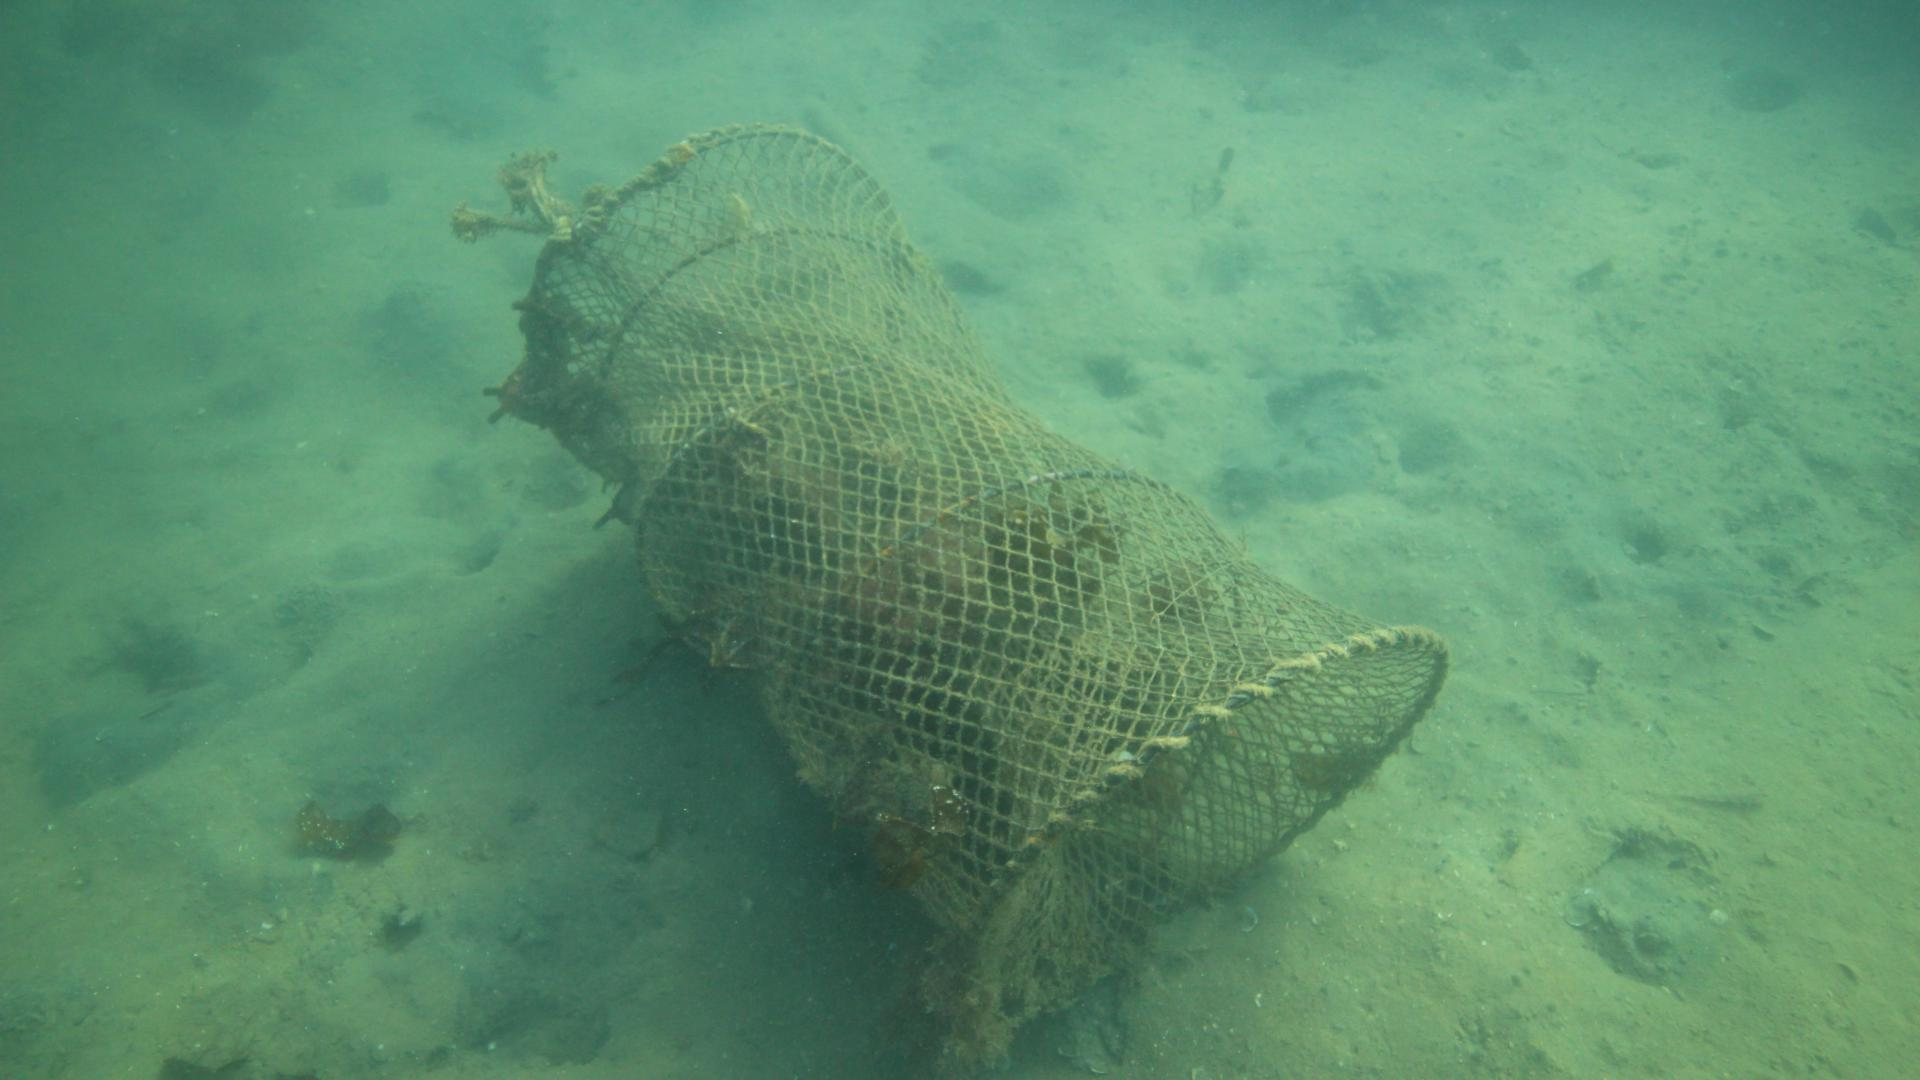spring fish trap: (524, 121, 1453, 1033)
